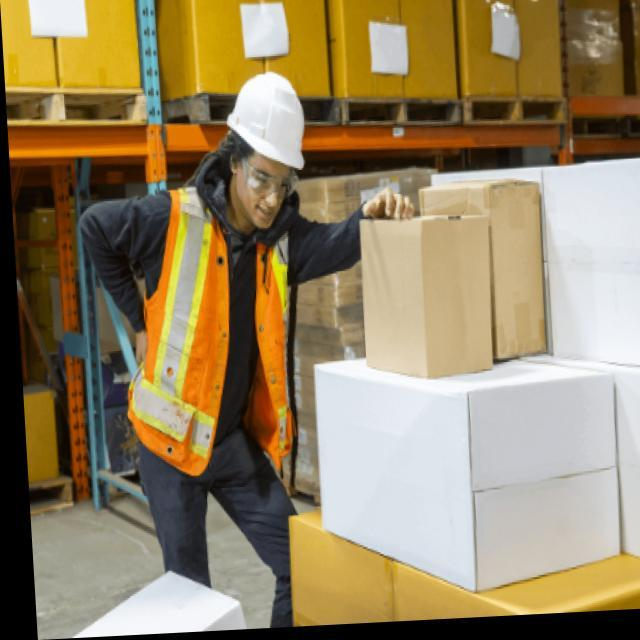helmet: (215, 66, 317, 239)
vest: (106, 174, 312, 497)
